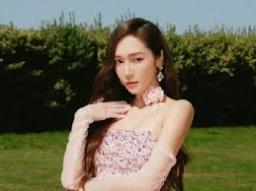face: (116, 39, 152, 93)
